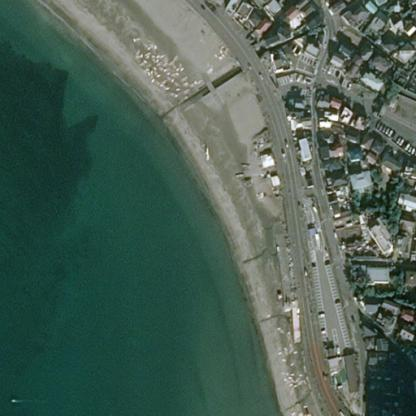ship: (6, 392, 21, 408)
